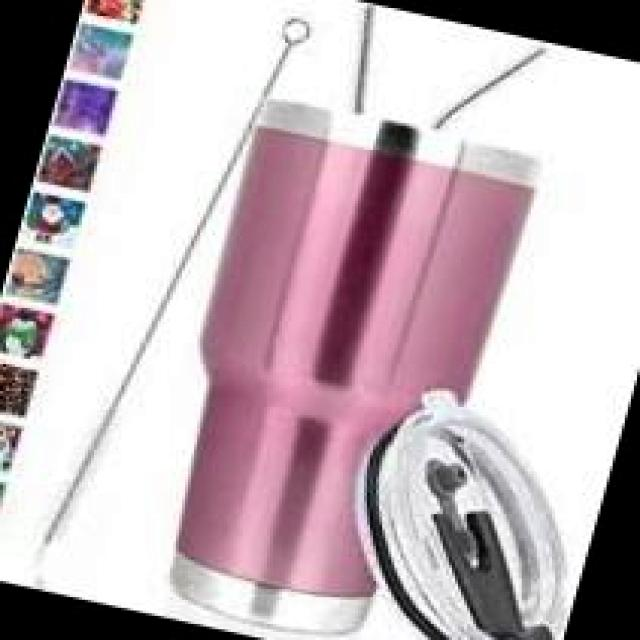bottle: (119, 0, 574, 640)
